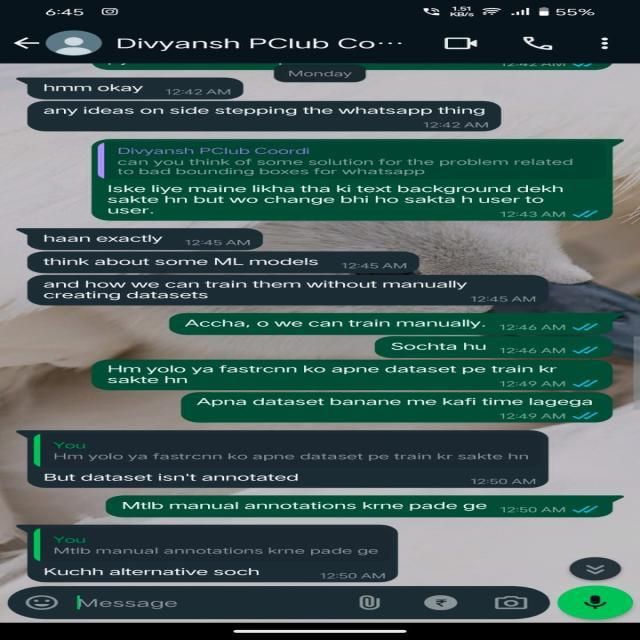scam: (29, 277, 555, 307), (31, 100, 504, 131), (28, 468, 548, 488), (28, 252, 423, 275), (30, 562, 400, 584), (22, 228, 268, 249), (28, 80, 245, 100)
